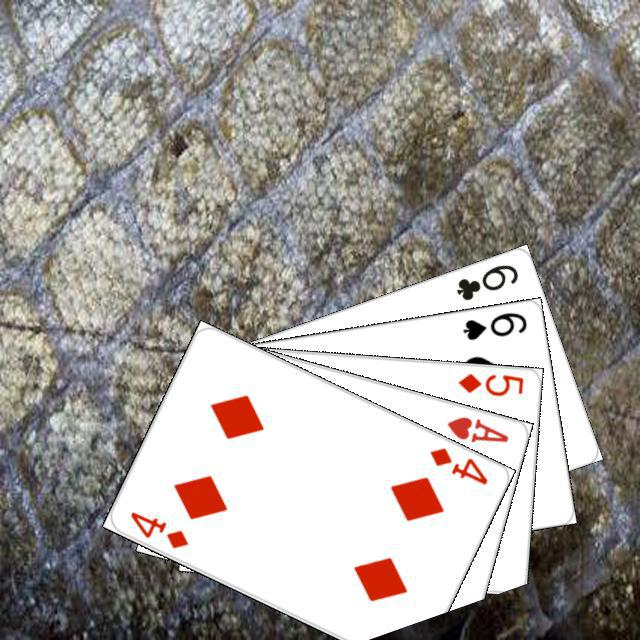4d: (425, 442, 490, 487), (125, 507, 191, 551)
5d: (453, 368, 526, 398)
6c: (451, 259, 520, 303)
6s: (458, 307, 528, 342)
Ah: (442, 411, 510, 444)
